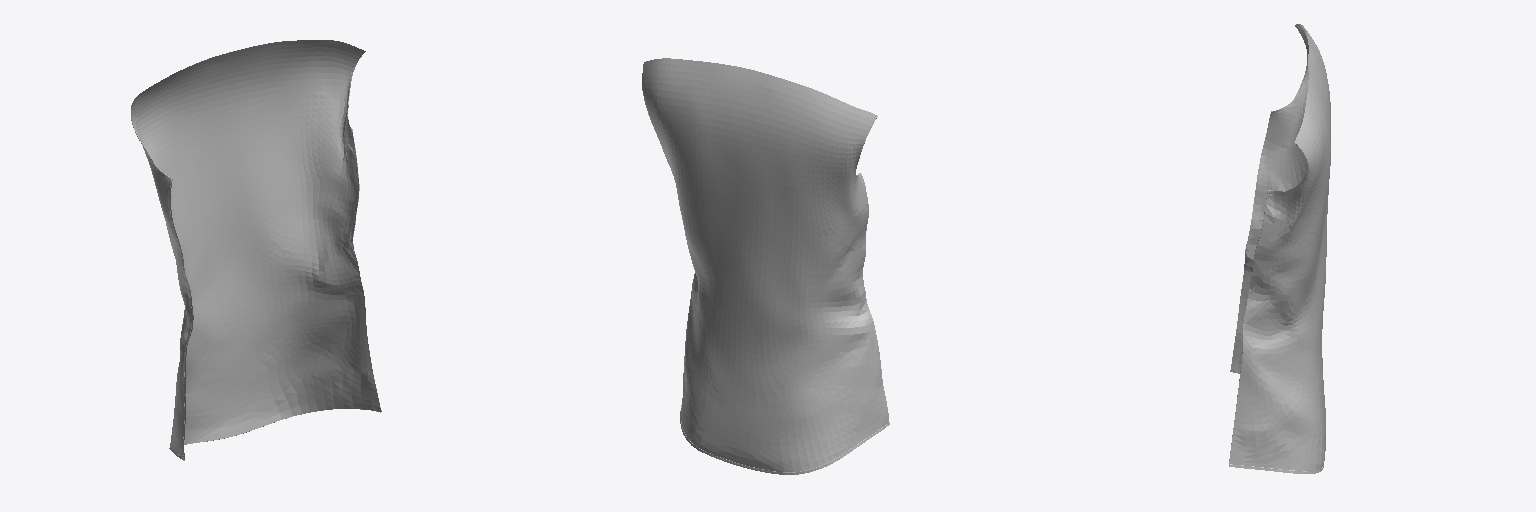
The picture shows the model from 3 angles: view 1: azimuth 30°, elevation 25°; view 2: azimuth 150°, elevation 25°; view 3: azimuth 270°, elevation 25°; orthographic projection.
Parts seen in each view (by area): view 1: cropped:ZBrushPolyMesh3D1 cropped:polySurface529 polySurface653 ; view 2: cropped:ZBrushPolyMesh3D1 cropped:polySurface529 polySurface653 ; view 3: cropped:ZBrushPolyMesh3D1 cropped:polySurface529 polySurface653 .
Boxes of the visible parts, x1,y1,x2,y2 form: cropped:ZBrushPolyMesh3D1 cropped:polySurface529 polySurface653 : [131, 40, 381, 460]; cropped:ZBrushPolyMesh3D1 cropped:polySurface529 polySurface653 : [642, 58, 889, 474]; cropped:ZBrushPolyMesh3D1 cropped:polySurface529 polySurface653 : [1229, 24, 1330, 473].
Bounding box in the file's own units: 39.91 × 63.91 × 15.19.